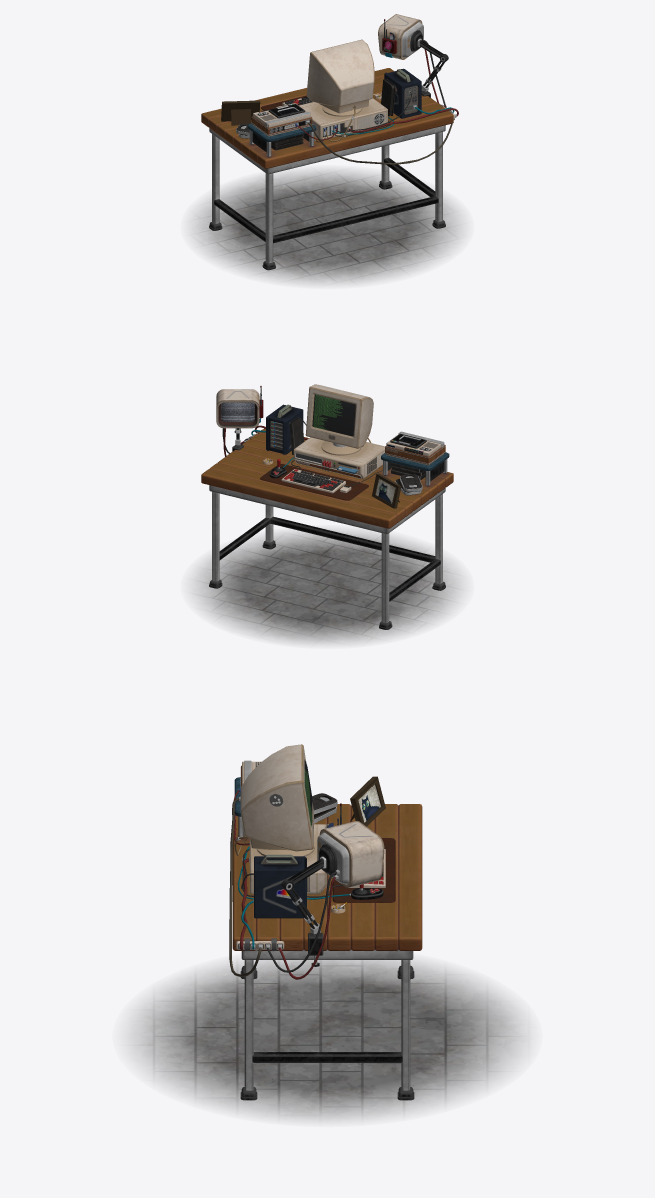
File: hacker-room.glb
The picture shows the model from 3 angles, top to bottom: view 1: azimuth 30°, elevation 25°; view 2: azimuth 150°, elevation 25°; view 3: azimuth 270°, elevation 25°; orthographic projection. The views are drawn at different scales.
Visible parts, largest first — view 1: table_table_mat_0, Plane_0; view 2: table_table_mat_0, screen_screens_0, Plane_0; view 3: table_table_mat_0, Plane_0.
Part boxes in pixels (<box>): table_table_mat_0: <box>190,14,464,284</box>; Plane_0: <box>221,100,260,125</box>; table_table_mat_0: <box>190,384,464,644</box>; screen_screens_0: <box>221,394,355,436</box>; Plane_0: <box>372,473,401,508</box>; table_table_mat_0: <box>126,744,528,1121</box>; Plane_0: <box>350,776,385,826</box>.
Size of the model in its own units: 272 by 119 by 245.
Materials: 16 (16 with a texture image).
